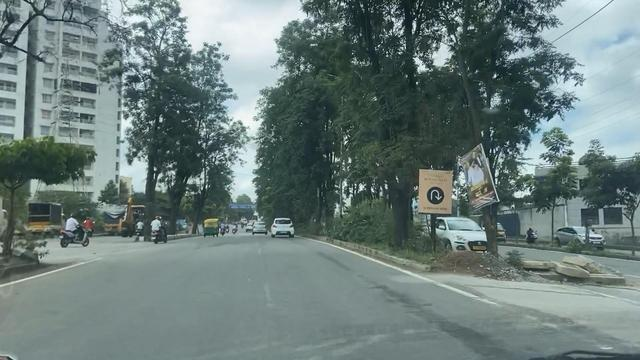LMV: (63, 216, 85, 244), (270, 217, 294, 239), (153, 218, 166, 242), (204, 218, 218, 235), (254, 220, 267, 236)
RoadDamages: (426, 303, 478, 352), (308, 319, 360, 358), (383, 280, 418, 319), (315, 251, 359, 276), (478, 331, 513, 360), (363, 271, 379, 296)
